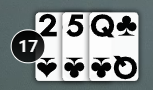2: (33, 10, 60, 39)
5: (58, 9, 89, 38)
q: (87, 9, 118, 41)
